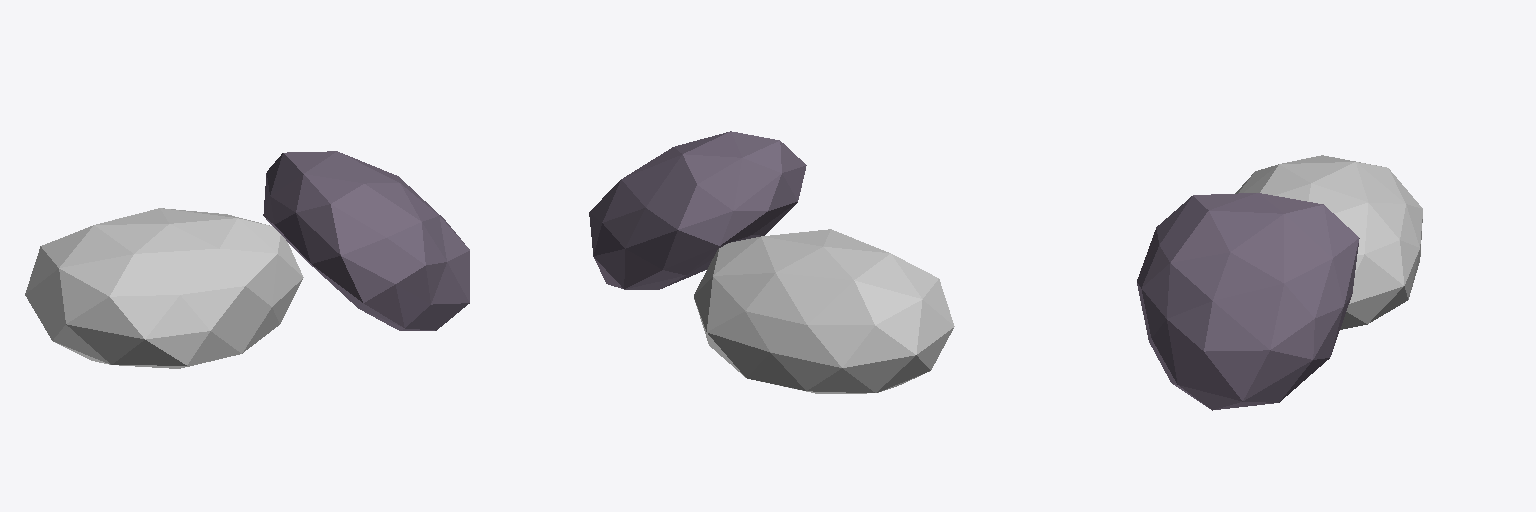
The model's file is pedra3.obj.
3 renders of one model, left to right at view 1: azimuth 30°, elevation 25°; view 2: azimuth 150°, elevation 25°; view 3: azimuth 270°, elevation 25°, orthographic.
Parts seen in each view (by area): view 1: Esfera_geodésica, Esfera_geodésica.001; view 2: Esfera_geodésica, Esfera_geodésica.001; view 3: Esfera_geodésica.001, Esfera_geodésica.
Part boxes in pixels (x1,y1,x2,y2): Esfera_geodésica: (25, 208, 303, 368); Esfera_geodésica.001: (263, 151, 469, 330); Esfera_geodésica: (694, 229, 954, 393); Esfera_geodésica.001: (589, 131, 806, 289); Esfera_geodésica.001: (1137, 193, 1359, 410); Esfera_geodésica: (1235, 155, 1422, 329).
Bounding box in the file's own units: 0.6524 × 0.2723 × 0.4267.